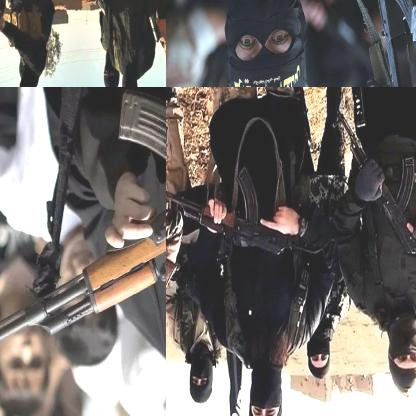rifle: (0, 93, 165, 387), (337, 117, 415, 304), (166, 170, 329, 256), (357, 0, 415, 86), (74, 0, 109, 15)
